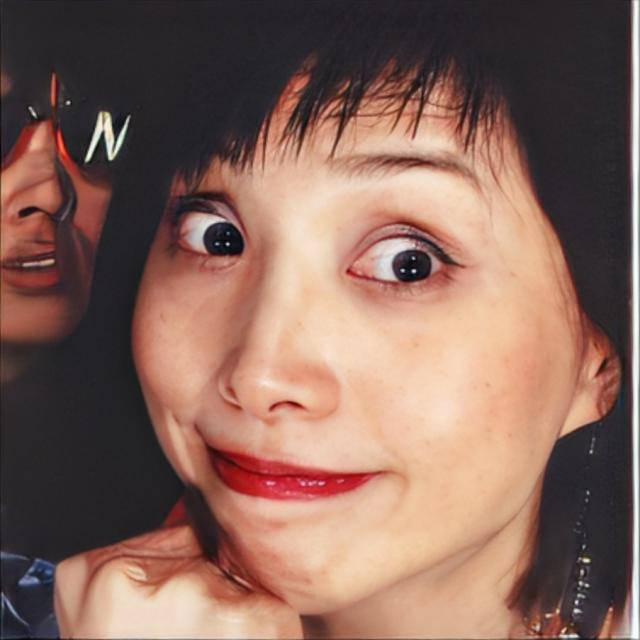surprise: (128, 40, 592, 615)
